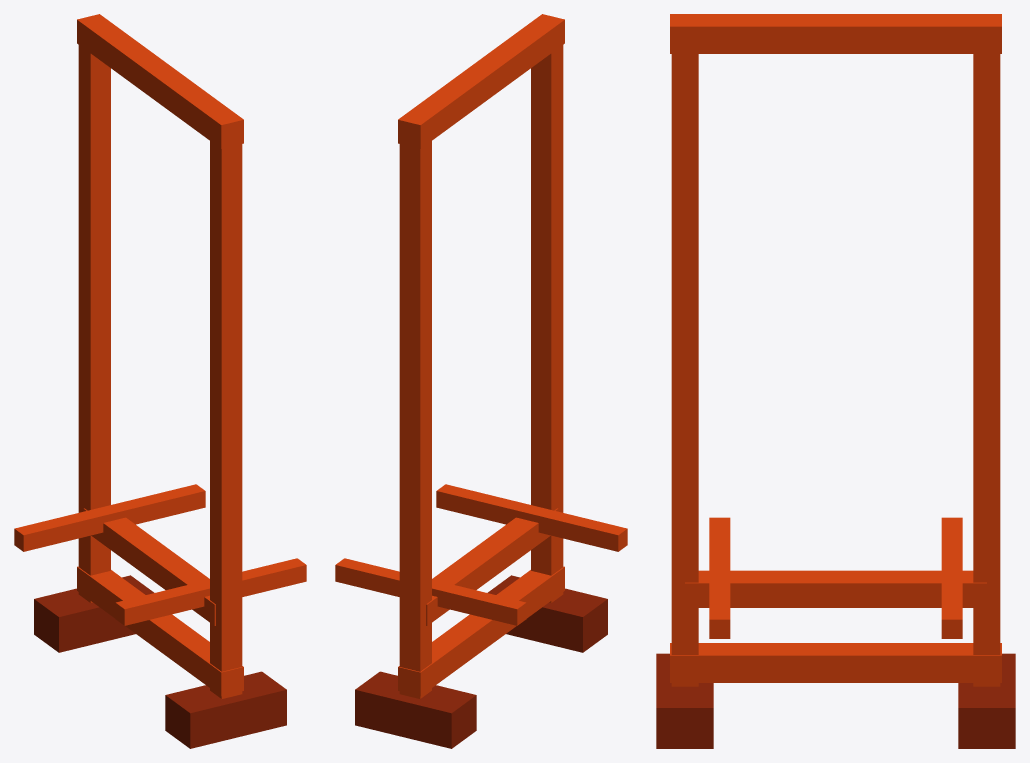
Rendered from storage_stacker.dae.
3 renders of one model, left to right at view 1: azimuth 30°, elevation 25°; view 2: azimuth 150°, elevation 25°; view 3: azimuth 270°, elevation 25°, orthographic. The views are drawn at different scales.
Visible parts, largest first — view 1: storage_stacker; view 2: storage_stacker; view 3: storage_stacker.
Boxes of the visible parts, <box> form: storage_stacker: <box>14,14,306,748</box>; storage_stacker: <box>335,14,627,748</box>; storage_stacker: <box>656,14,1015,748</box>.
Size of the model in its own units: 1.6 by 2.38 by 5.13.
